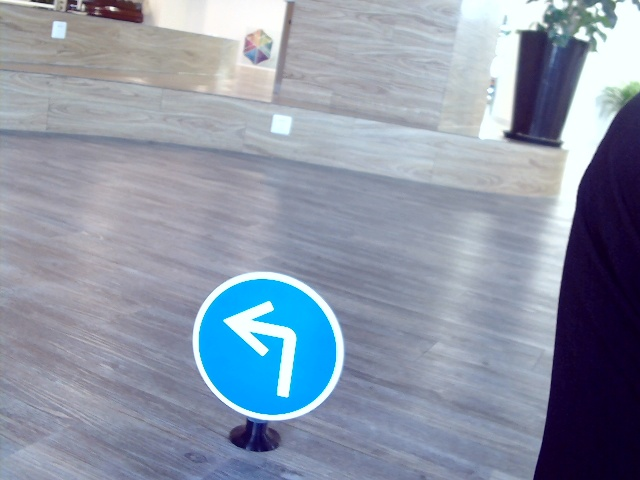turn_left: (221, 296, 305, 395)
